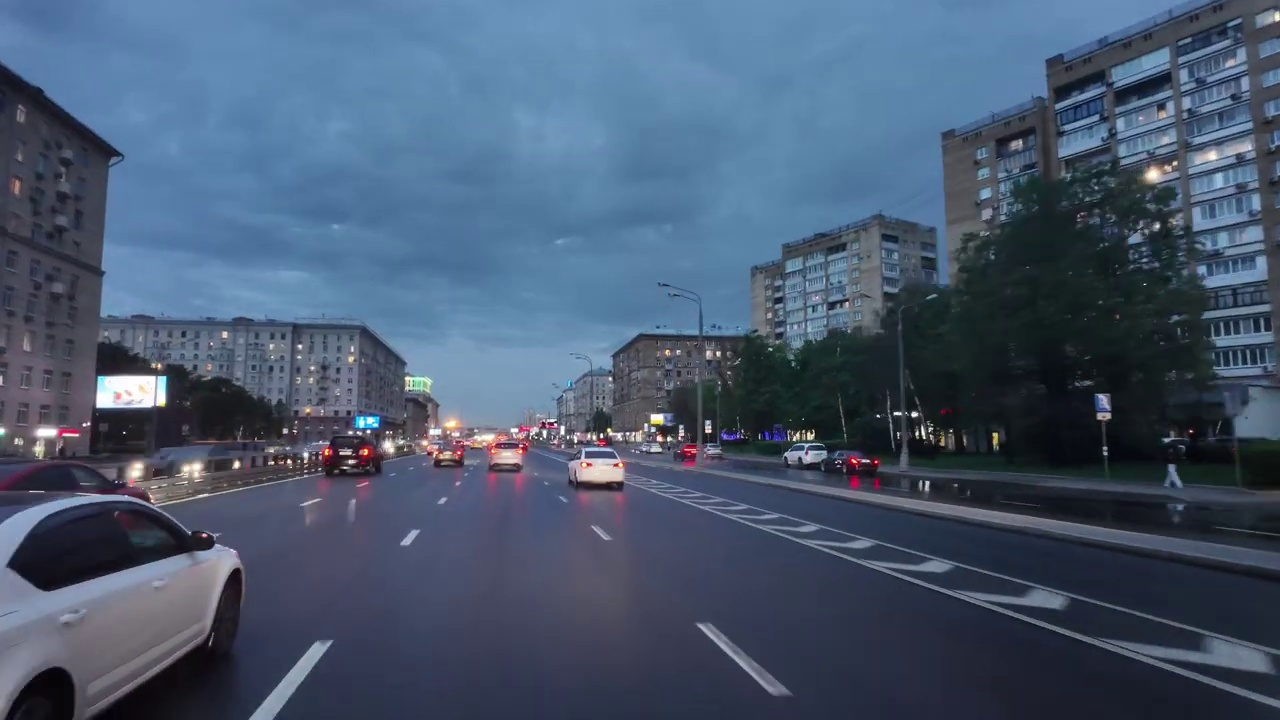apagada: (654, 279, 683, 302)
